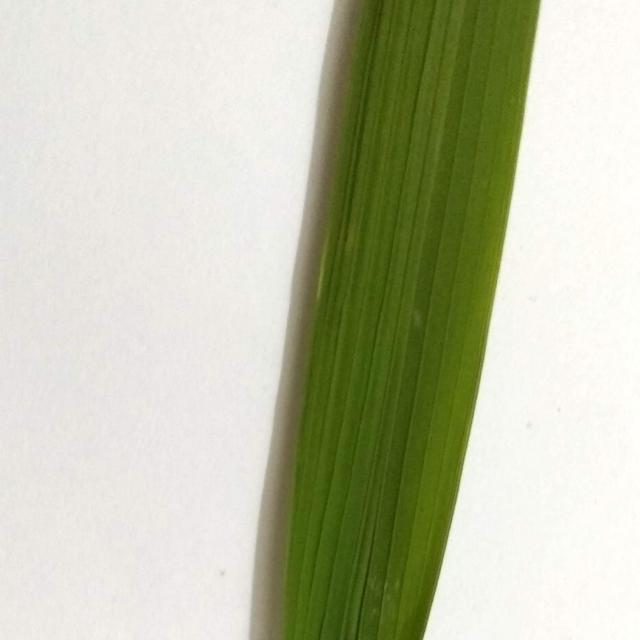healthy: (259, 0, 552, 640)
